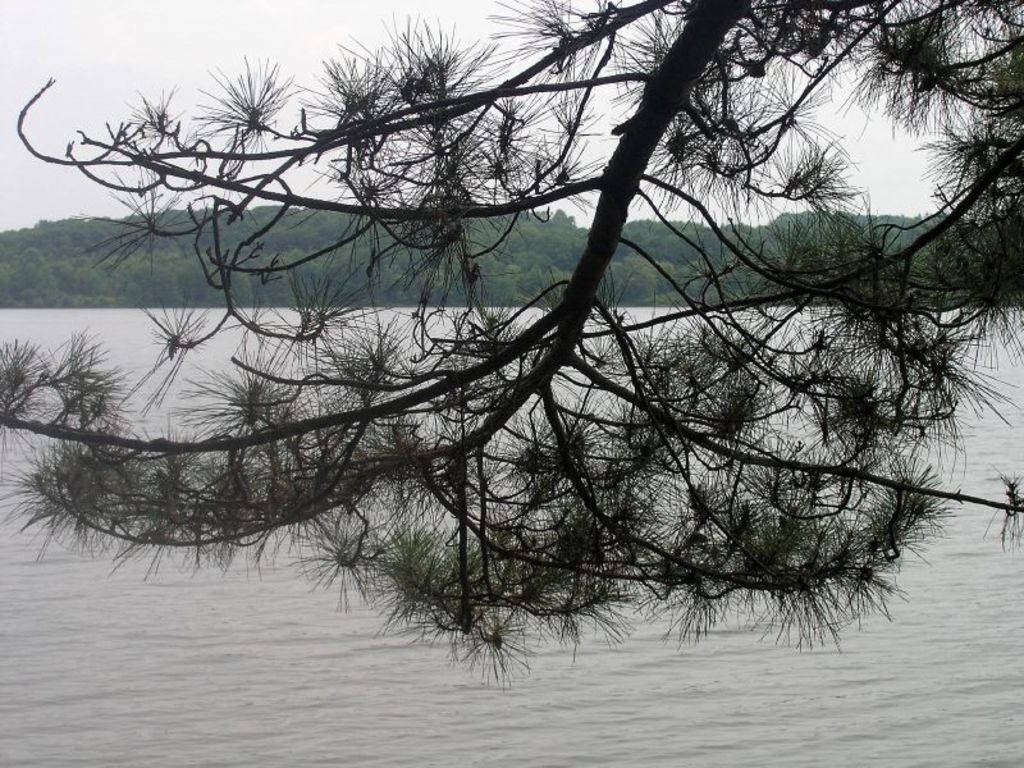Tree: (71, 0, 972, 715)
